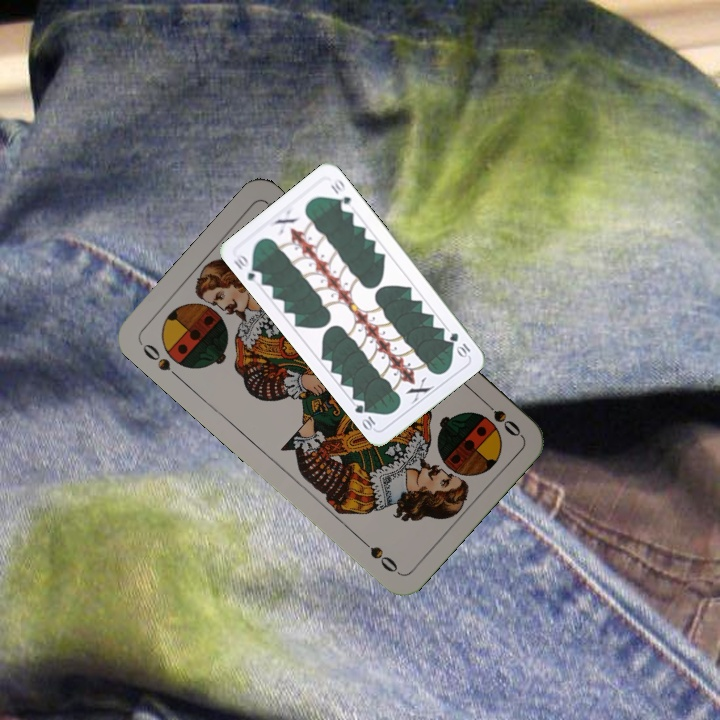G10: (230, 250, 265, 287), (445, 328, 473, 360)
SO: (476, 393, 523, 439), (136, 339, 184, 383)
